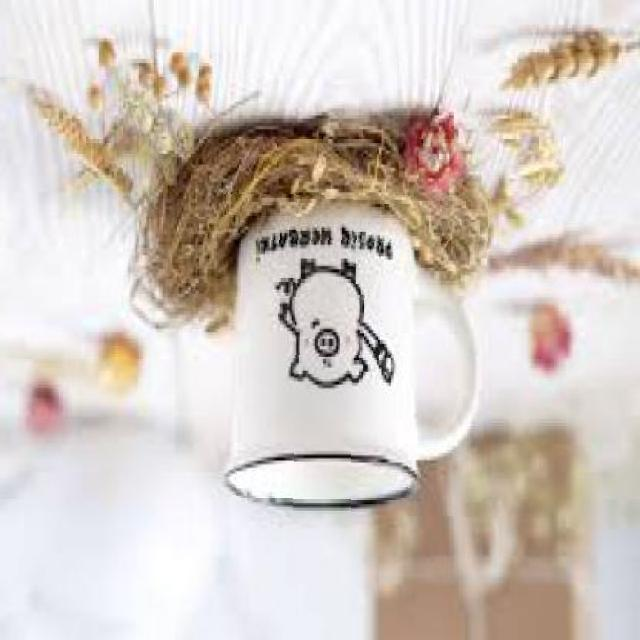cup: (216, 193, 487, 516)
